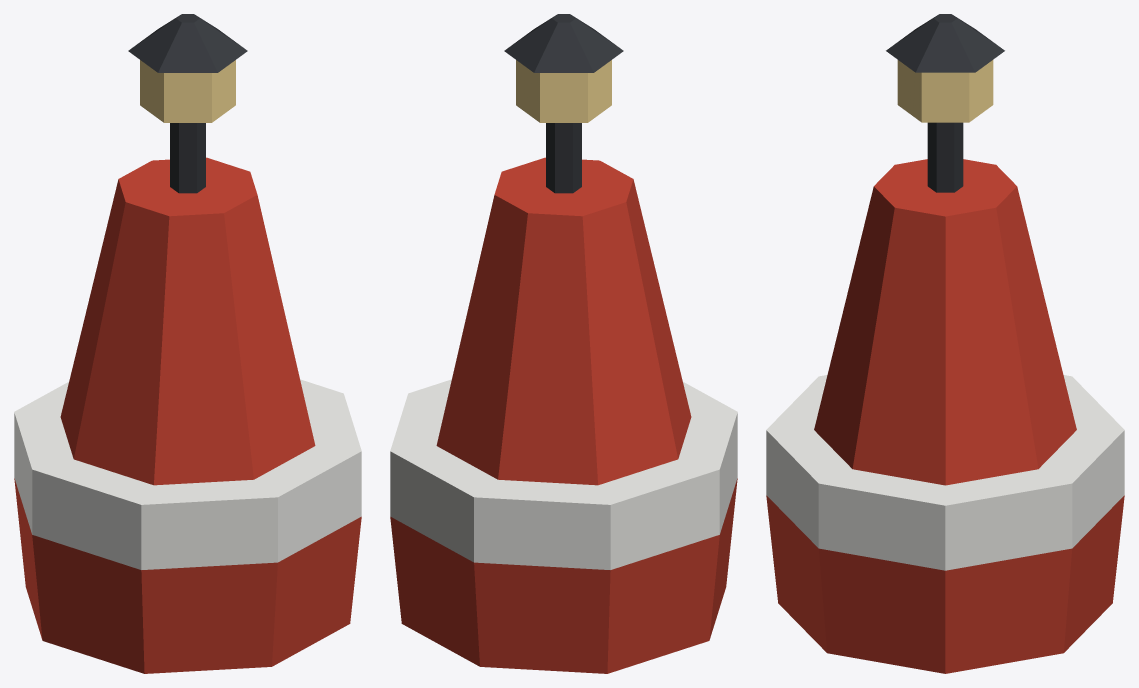
Rendered from Buoy.glb.
The picture shows the model from 3 angles, left to right: view 1: azimuth 30°, elevation 25°; view 2: azimuth 150°, elevation 25°; view 3: azimuth 270°, elevation 25°; orthographic projection.
Visible parts, largest first — view 1: Buoy; view 2: Buoy; view 3: Buoy.
Boxes of the visible parts, left/top/right/bottom form: Buoy: left=14, top=14, right=361, bottom=673; Buoy: left=390, top=14, right=737, bottom=673; Buoy: left=766, top=14, right=1124, bottom=673.
Size of the model in its own units: 0.6 by 1.08 by 0.6.
1 material, 1 textured.
